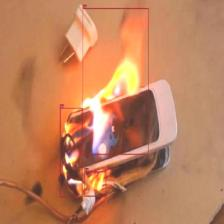fire: (82, 7, 148, 155), (60, 107, 82, 198), (84, 171, 106, 196)
